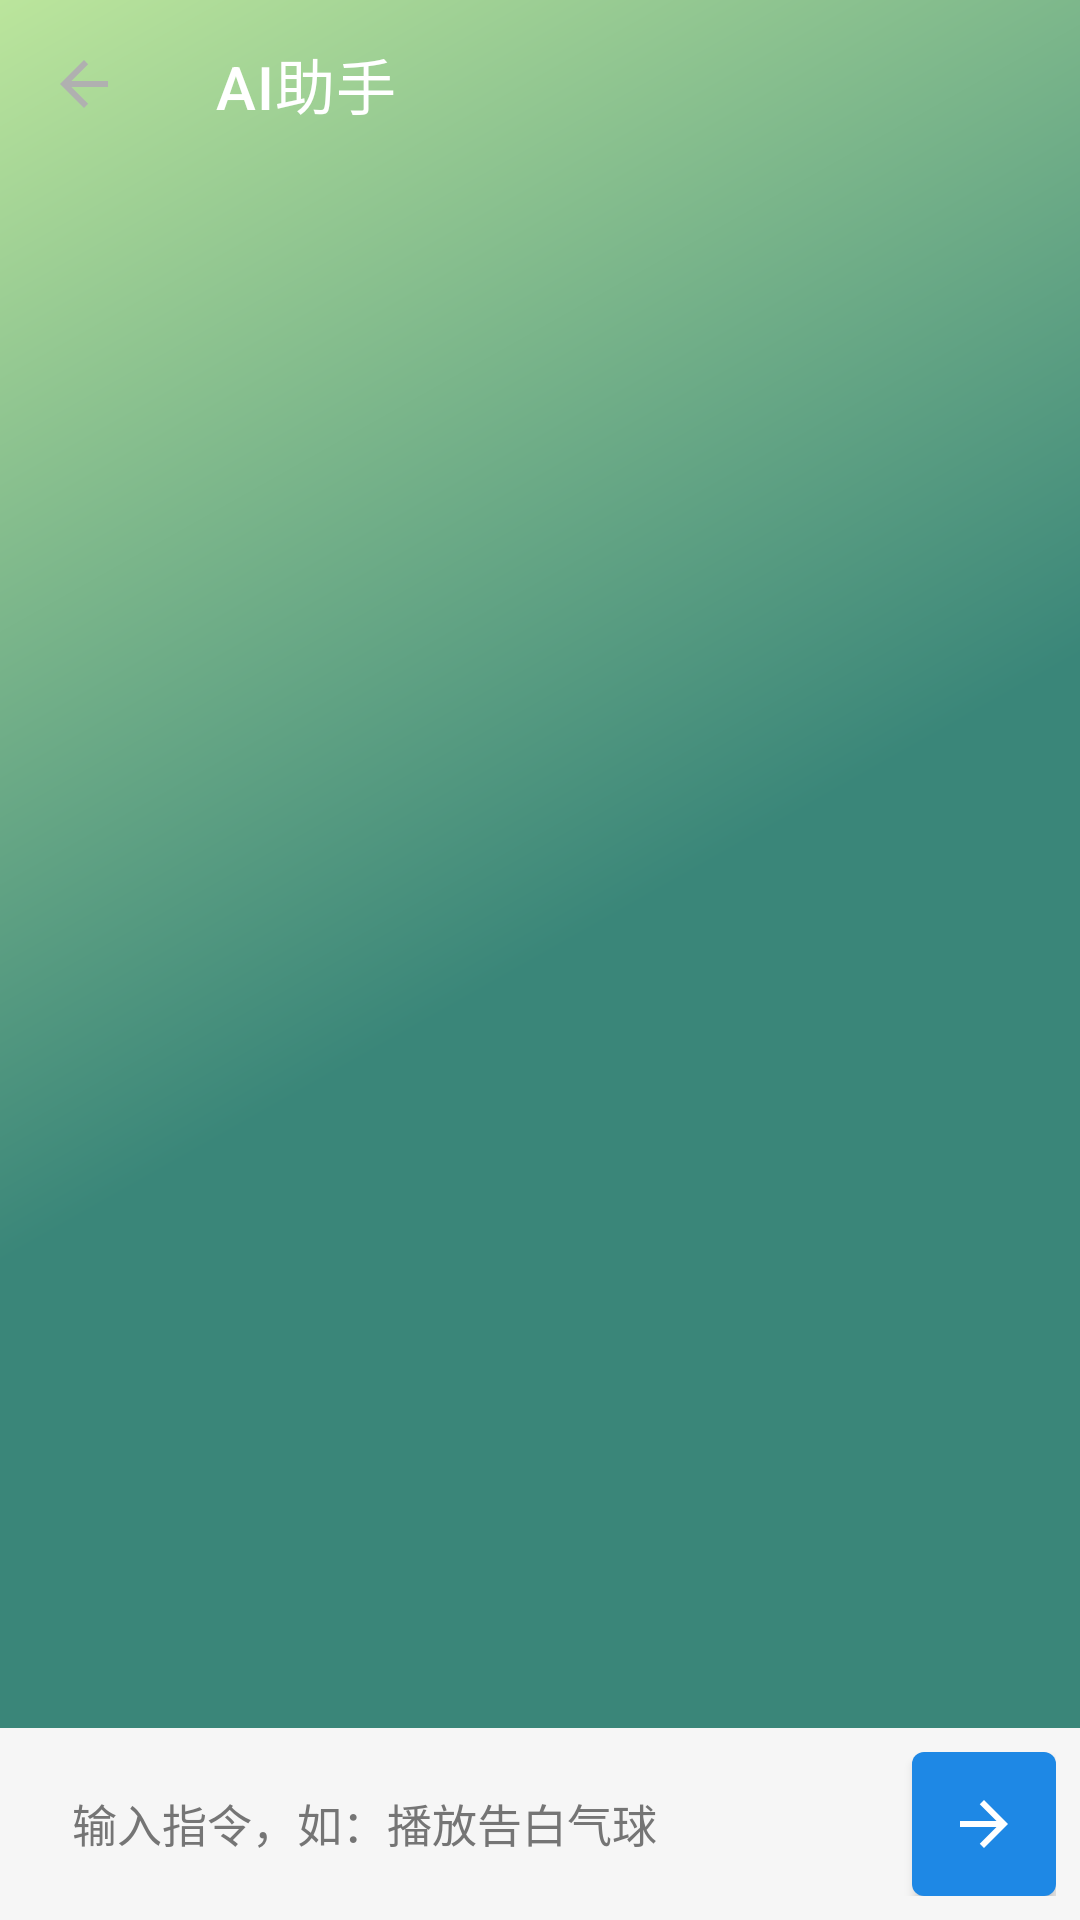

Named icons in this screenshot (1080px x 1920px) and their centers, [x,y]:
发送: [984,1824]
